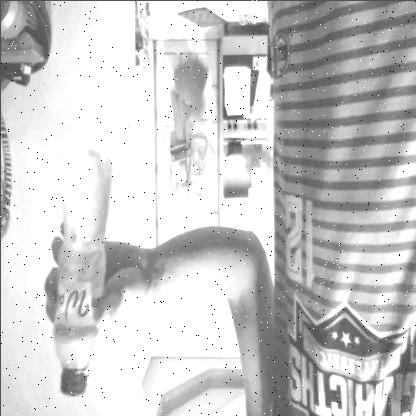Plastic Bottle: (58, 142, 111, 399)
